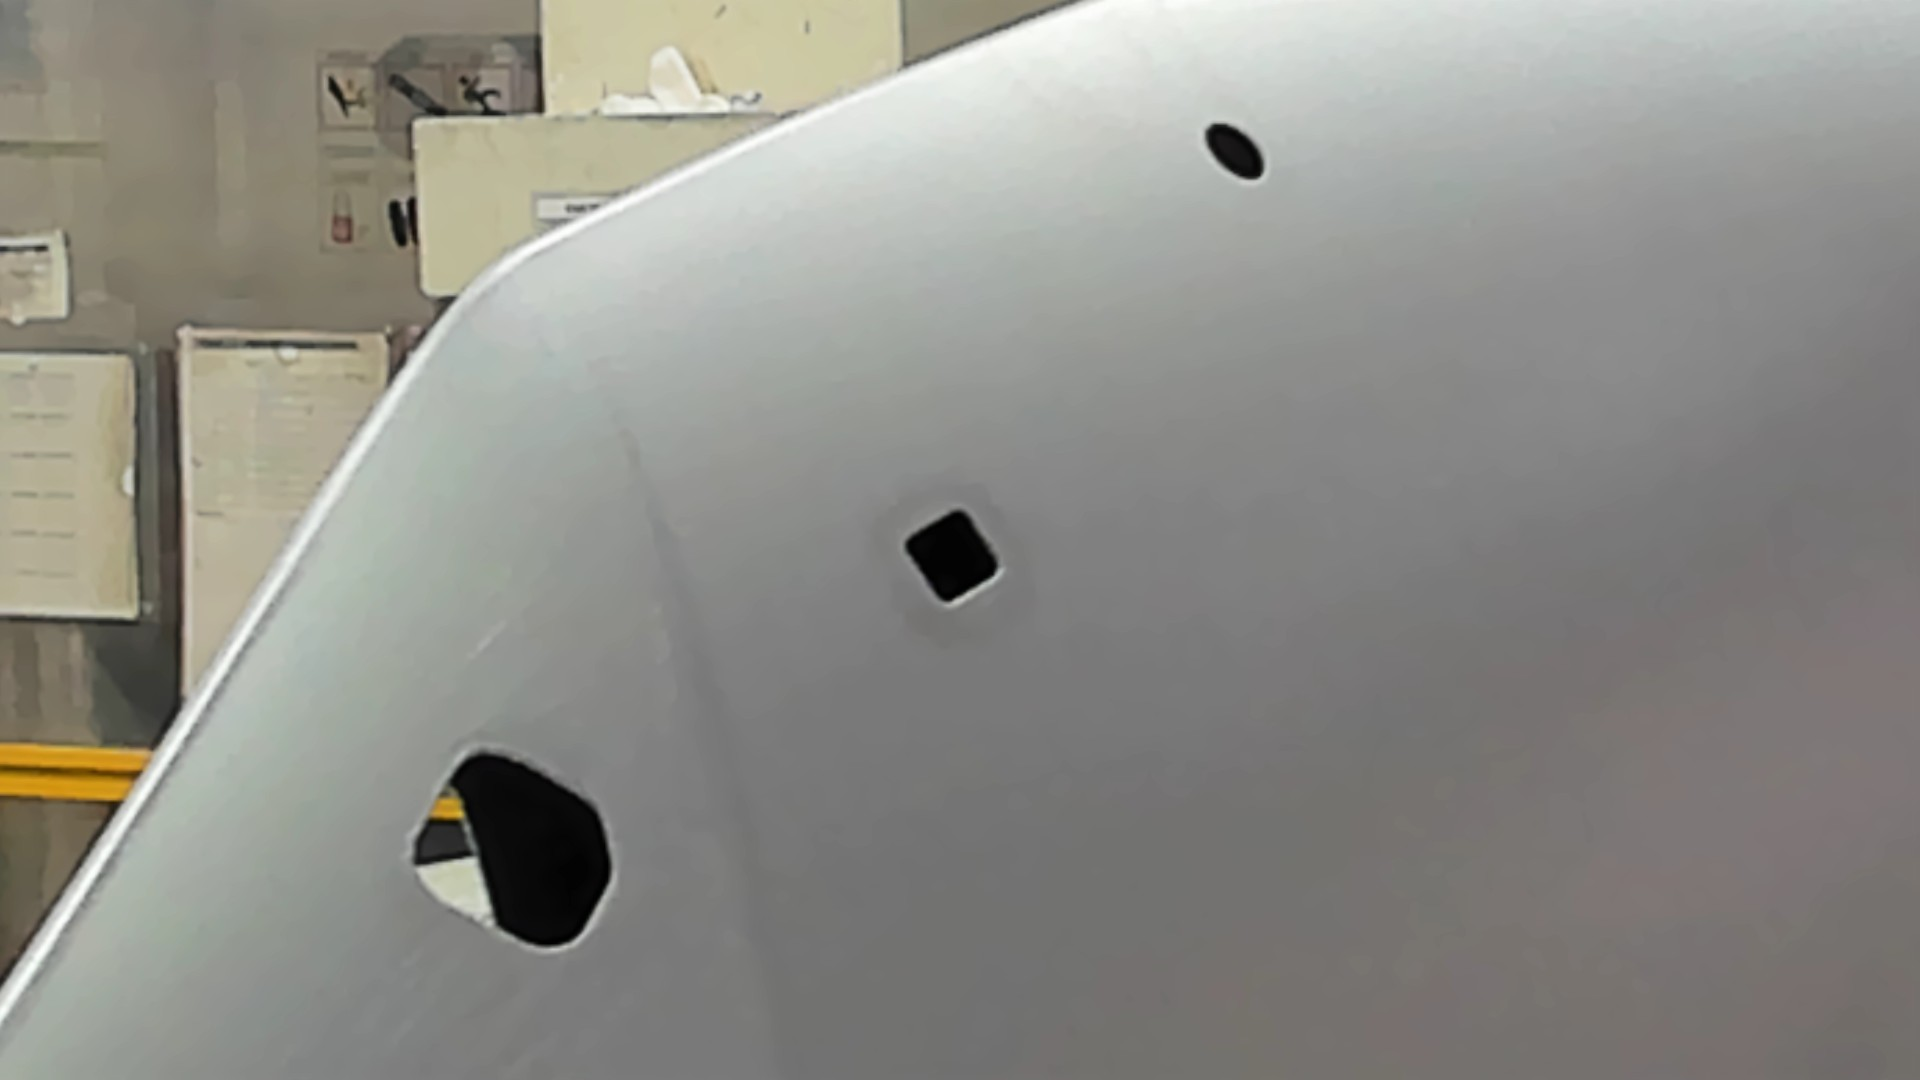chico: (1200, 117, 1273, 187)
grande: (398, 741, 618, 961)
mediano: (895, 502, 1009, 611)
